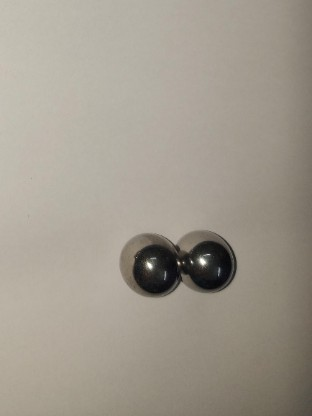ironball: (175, 218, 247, 293), (116, 233, 180, 297)
